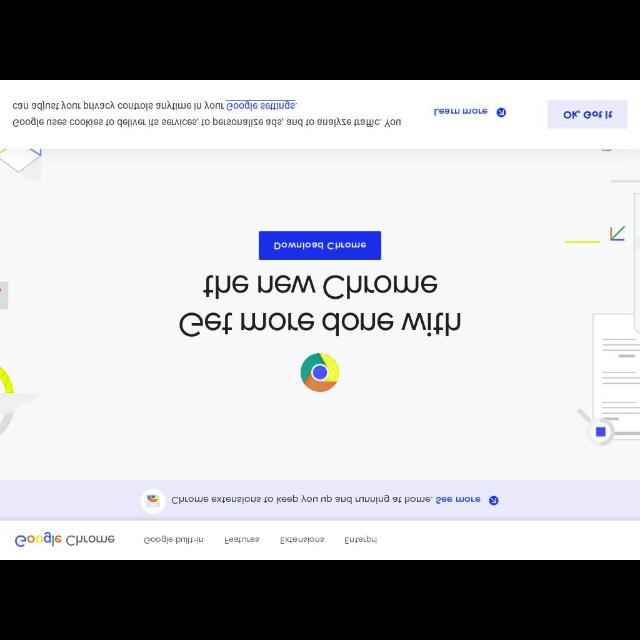backgroundimage: (1, 150, 639, 480)
icon: (496, 106, 506, 118), (488, 496, 499, 504)
image: (14, 531, 64, 549), (142, 488, 166, 514)
link: (226, 98, 298, 112)
multitab: (142, 534, 378, 546)
text: (178, 274, 462, 338), (12, 99, 402, 127), (171, 495, 481, 505), (273, 242, 367, 250), (143, 534, 204, 546), (433, 106, 489, 118), (562, 108, 614, 120), (66, 534, 114, 546), (279, 534, 325, 546), (223, 536, 259, 546), (344, 535, 378, 545)
textbutton: (258, 230, 382, 260), (548, 99, 628, 129)
